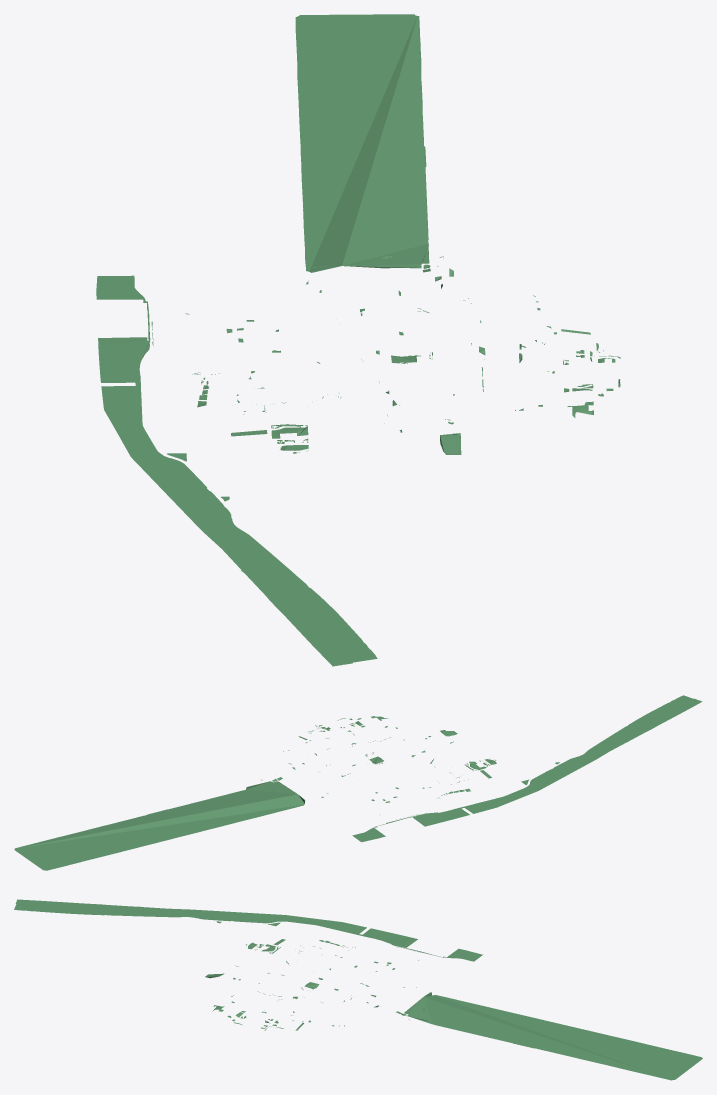
The model's file is green.glb.
The picture shows the model from 3 angles, top to bottom: view 1: azimuth 30°, elevation 25°; view 2: azimuth 150°, elevation 25°; view 3: azimuth 270°, elevation 25°; orthographic projection. The views are drawn at different scales.
Parts seen in each view (by area): view 1: green; view 2: green; view 3: green.
Part boxes in pixels (x1,y1,x2,y2): green: (96,14,620,666); green: (14,695,702,870); green: (14,899,702,1080).
Bounding box in the file's own units: 5667 × 166 × 9110.
